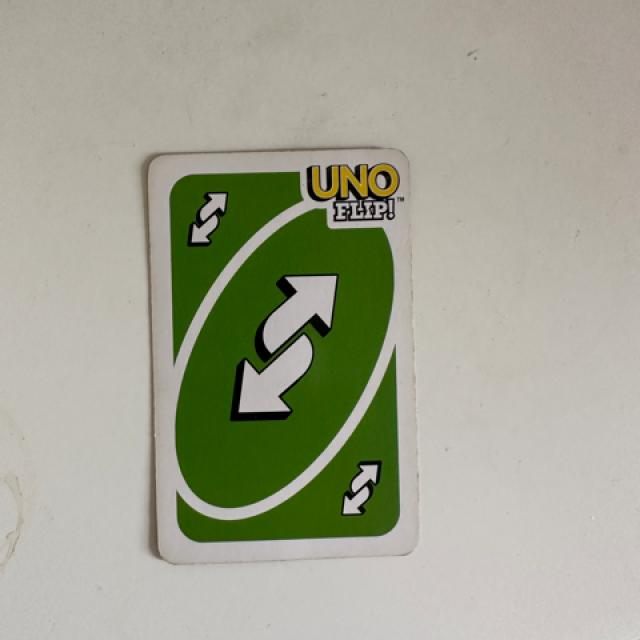lgreenrevers-20: (161, 168, 260, 268)
